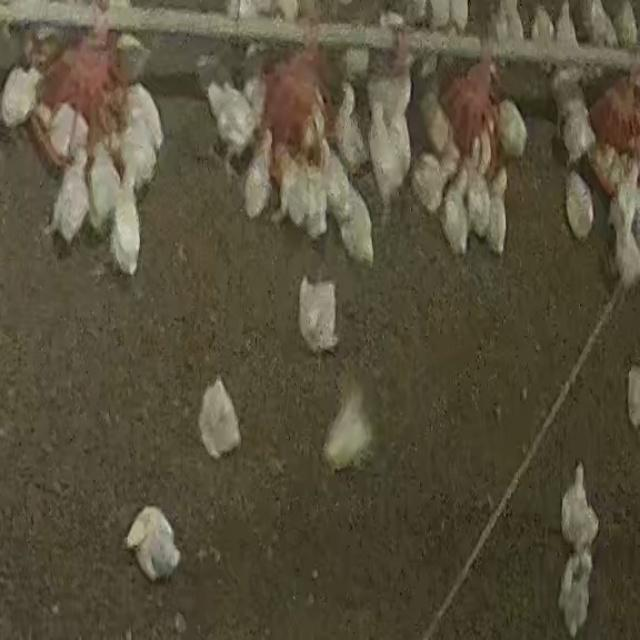chicken: (323, 374, 375, 472), (126, 505, 182, 583), (334, 171, 375, 267), (194, 380, 244, 454), (366, 95, 400, 203), (48, 154, 86, 245), (295, 280, 343, 348), (562, 461, 596, 554), (284, 160, 323, 236), (336, 80, 366, 178), (323, 151, 359, 230), (384, 88, 414, 182), (86, 138, 116, 231), (208, 96, 253, 158), (244, 128, 275, 218), (558, 552, 590, 634), (126, 81, 164, 150), (111, 180, 138, 277), (0, 64, 39, 129), (484, 170, 511, 255), (38, 104, 82, 154), (615, 210, 640, 294), (563, 171, 593, 240), (463, 158, 489, 236), (442, 173, 467, 252), (276, 148, 300, 230), (613, 160, 640, 230), (122, 124, 157, 177), (500, 99, 528, 156), (413, 158, 444, 209), (560, 120, 596, 163), (433, 139, 461, 189), (591, 144, 620, 190), (554, 0, 580, 50), (550, 64, 586, 100), (551, 82, 588, 117), (586, 0, 615, 43), (613, 0, 638, 46), (474, 121, 496, 171), (530, 4, 554, 47), (428, 105, 451, 149)
